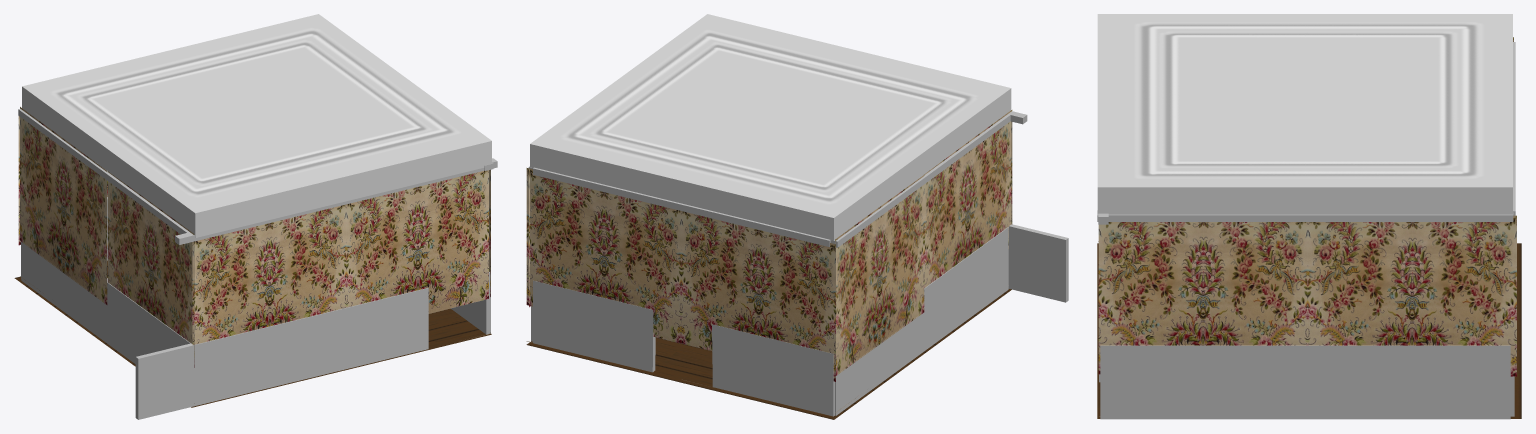
The model's file is room test 2.fbx.
3 views of the same model, side by side, from view 1: azimuth 30°, elevation 25°; view 2: azimuth 150°, elevation 25°; view 3: azimuth 270°, elevation 25° (orthographic). The views are drawn at different scales.
Visible parts, largest first — view 1: testce, paneled, behang11, behang9, behang8, behang10, paneled2, floor, pCube22, pCube20, paneled1; view 2: testce, behang8 (×2), behang5, paneled3, behang10, paneled2, paneled, floor, pCube21, pCube22; view 3: testce, paneled1, behang5, behang6, pCube23, floor, pCube21.
Boxes of the visible parts, x1=… form: testce: x1=22, y1=14, x2=491, y2=237; paneled: x1=135, y1=287, x2=428, y2=419; behang11: x1=346, y1=170, x2=488, y2=338; behang9: x1=192, y1=204, x2=346, y2=344; behang8: x1=20, y1=107, x2=107, y2=304; behang10: x1=108, y1=171, x2=194, y2=403; paneled2: x1=21, y1=242, x2=190, y2=363; floor: x1=14, y1=260, x2=491, y2=407; pCube22: x1=18, y1=108, x2=189, y2=234; pCube20: x1=175, y1=158, x2=497, y2=244; paneled1: x1=451, y1=272, x2=490, y2=334; testce: x1=530, y1=14, x2=1011, y2=240; behang8 (×2): x1=526, y1=168, x2=924, y2=412; behang5: x1=681, y1=211, x2=835, y2=384; paneled3: x1=533, y1=280, x2=834, y2=416; behang10: x1=924, y1=110, x2=1012, y2=287; paneled2: x1=835, y1=227, x2=1008, y2=415; paneled: x1=1008, y1=224, x2=1068, y2=302; floor: x1=526, y1=289, x2=1011, y2=419; pCube21: x1=533, y1=167, x2=830, y2=246; pCube22: x1=830, y1=114, x2=1010, y2=247; testce: x1=1097, y1=14, x2=1512, y2=214; paneled1: x1=1100, y1=345, x2=1510, y2=419; behang5: x1=1307, y1=215, x2=1516, y2=376; behang6: x1=1098, y1=222, x2=1307, y2=416; pCube23: x1=1097, y1=210, x2=1513, y2=221; floor: x1=1097, y1=243, x2=1521, y2=418; pCube21: x1=1513, y1=42, x2=1515, y2=215.
Size of the model in its own units: 46.81 by 24.12 by 40.05.
